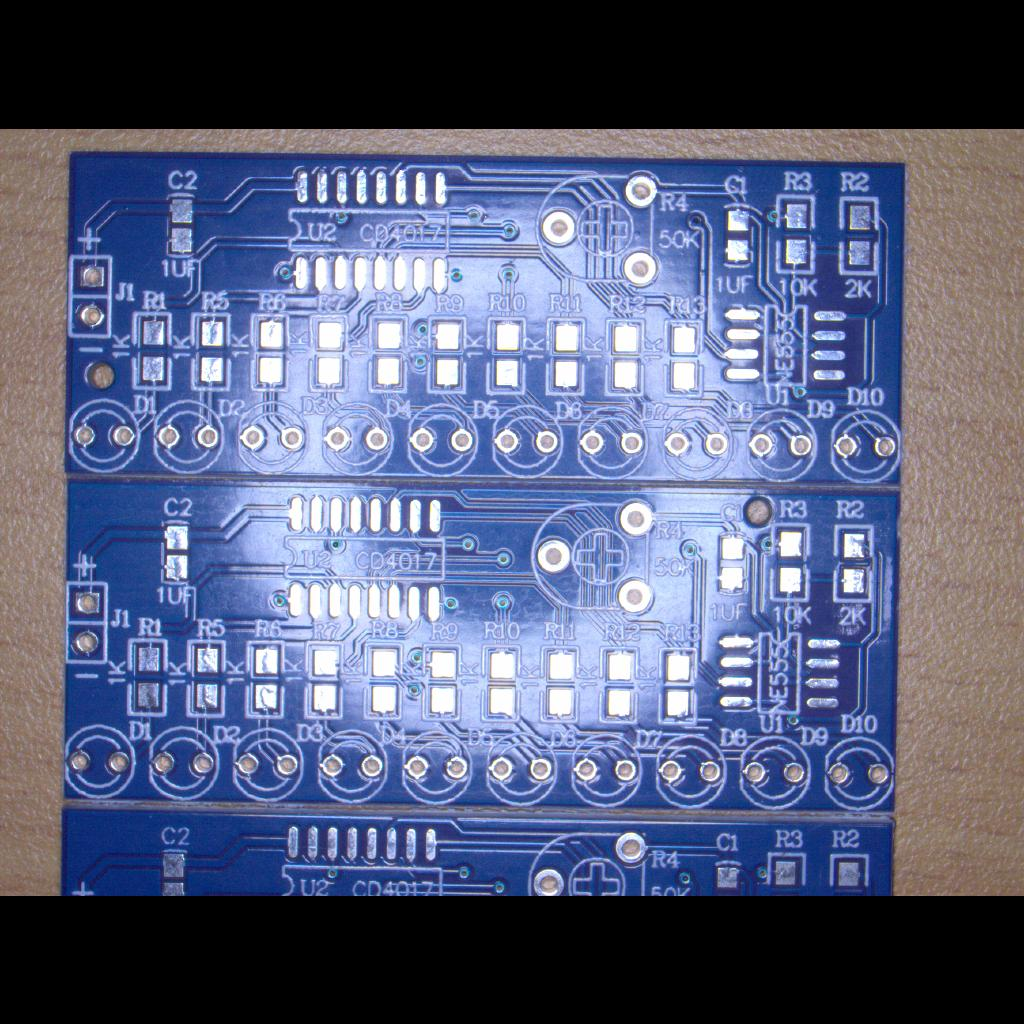NG: (274, 490, 458, 626), (280, 160, 462, 296), (718, 300, 858, 396), (274, 816, 450, 892), (710, 624, 850, 718), (832, 520, 880, 604), (837, 194, 883, 280), (774, 193, 820, 277), (604, 316, 650, 400), (538, 644, 584, 726), (767, 521, 813, 603), (482, 642, 526, 726), (658, 644, 702, 728), (187, 310, 233, 390), (250, 311, 296, 391), (488, 313, 532, 395), (424, 642, 468, 724), (428, 312, 472, 394), (545, 314, 589, 396), (184, 636, 228, 718), (664, 316, 706, 400), (305, 312, 349, 392), (365, 642, 409, 722), (134, 309, 178, 389), (601, 645, 643, 727), (247, 638, 289, 720), (370, 314, 414, 392), (129, 636, 171, 716), (302, 642, 344, 720), (714, 528, 754, 598), (164, 188, 202, 260), (722, 200, 760, 272), (158, 518, 196, 590), (830, 852, 874, 896), (767, 854, 809, 894), (157, 850, 191, 896), (710, 860, 748, 896)
OK: (758, 628, 806, 716), (72, 254, 118, 340), (69, 582, 113, 666)
